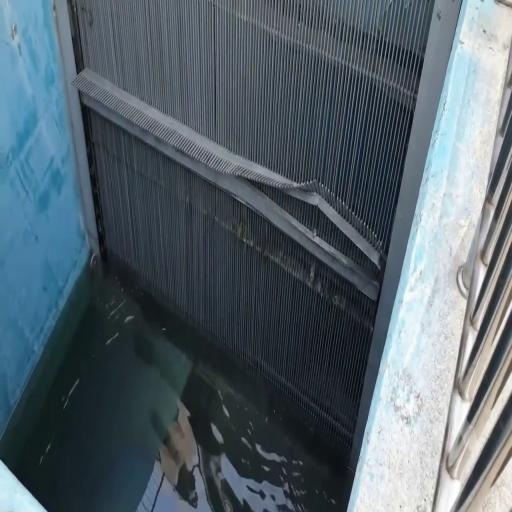rake_broken: (192, 135, 383, 268)
